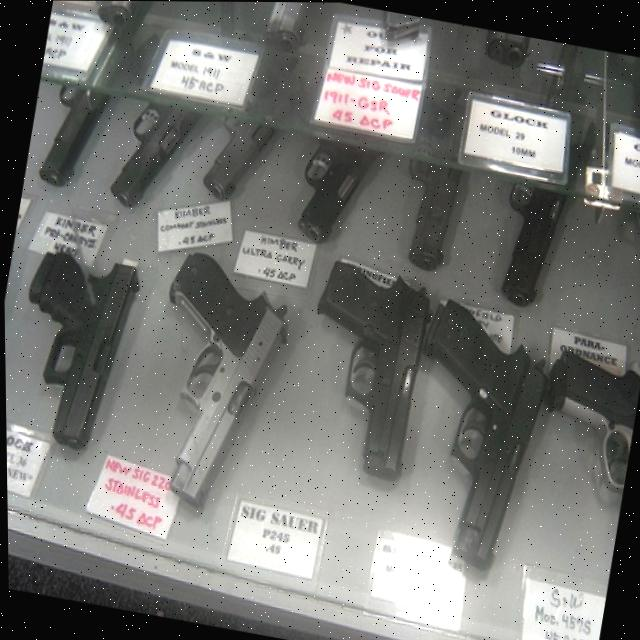pistol: (382, 285, 562, 576), (128, 243, 303, 521), (286, 254, 440, 485), (3, 244, 144, 457), (516, 339, 640, 550), (270, 69, 395, 251), (101, 28, 216, 219), (195, 27, 313, 211), (486, 130, 584, 311), (386, 77, 476, 273), (31, 76, 109, 190), (599, 49, 640, 137), (256, 1, 313, 55), (614, 204, 640, 320), (470, 26, 533, 70), (91, 1, 162, 36)
